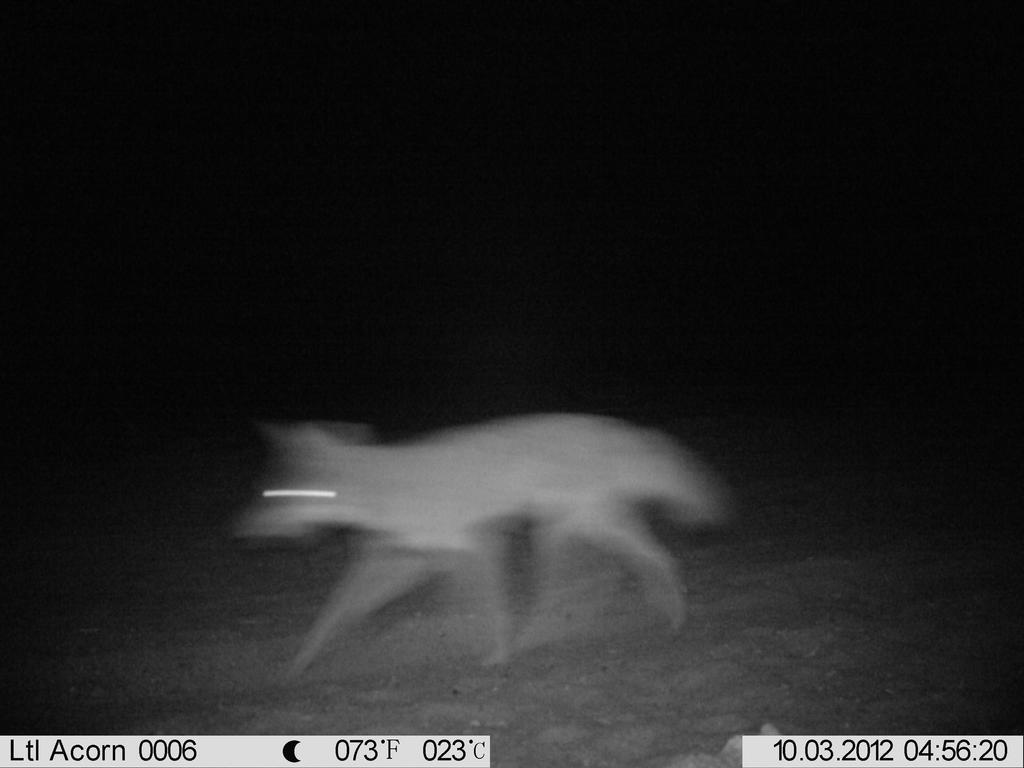coyote: (232, 401, 741, 679)
